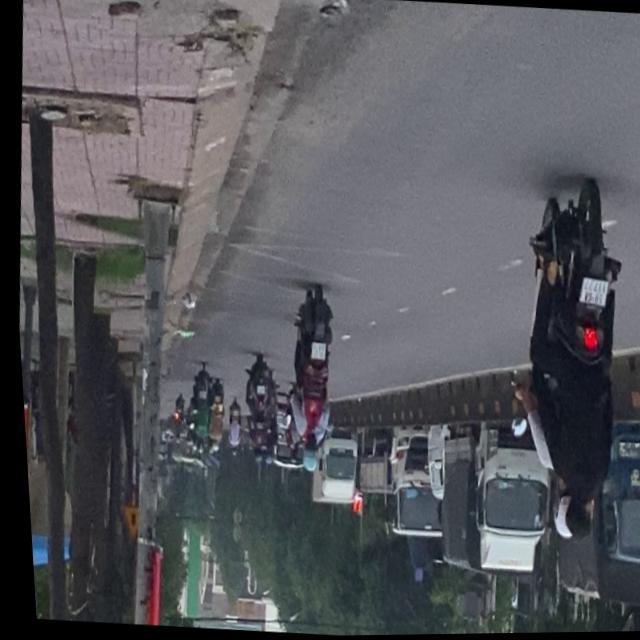helmet: (542, 483, 571, 542), (294, 437, 315, 472)
licenseplate: (497, 172, 640, 550), (270, 280, 342, 476)
motorcyclist: (558, 491, 590, 543)
nohelmet: (574, 278, 604, 308), (305, 341, 321, 360)
